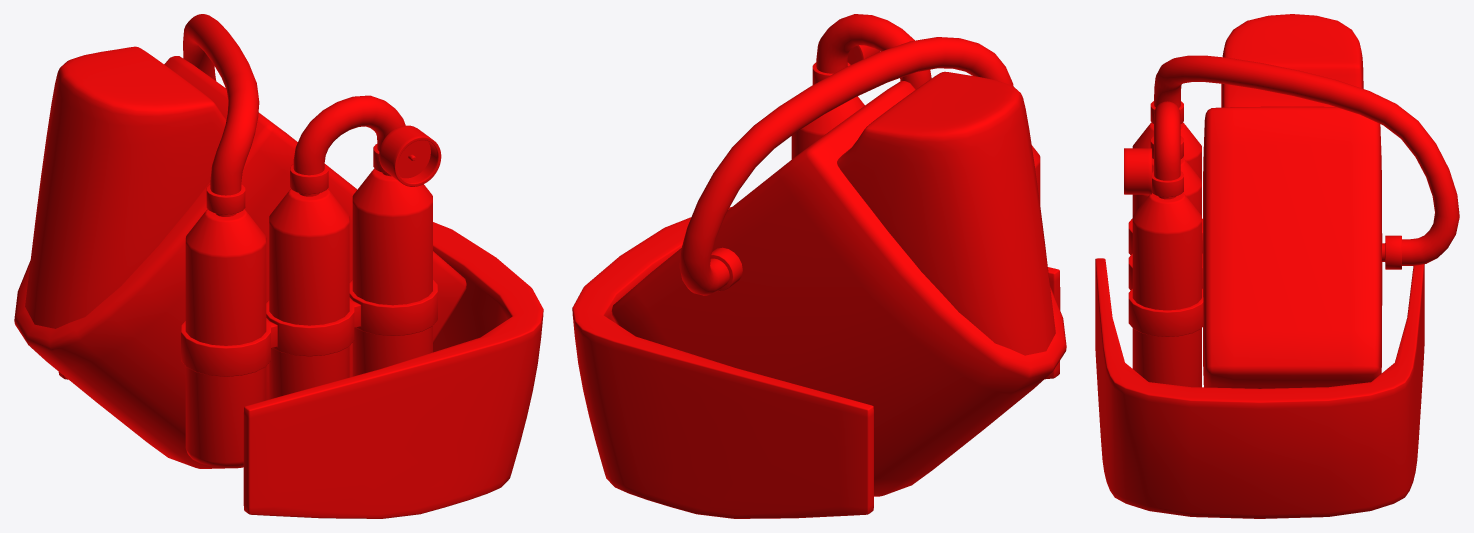
File: main_HeartPoint003 1.fbx
The picture shows the model from 3 angles, left to right: view 1: azimuth 30°, elevation 25°; view 2: azimuth 150°, elevation 25°; view 3: azimuth 270°, elevation 25°; orthographic projection. The views are drawn at different scales.
Visible parts, largest first — view 1: main_HeartPoint003Body001; view 2: main_HeartPoint003Body001; view 3: main_HeartPoint003Body001.
Boxes of the visible parts, x1,y1,x2,y2 form: main_HeartPoint003Body001: (14, 14, 543, 518); main_HeartPoint003Body001: (572, 14, 1066, 518); main_HeartPoint003Body001: (1095, 14, 1459, 518).
Bounding box in the file's own units: 32.54 × 28.62 × 26.44.
